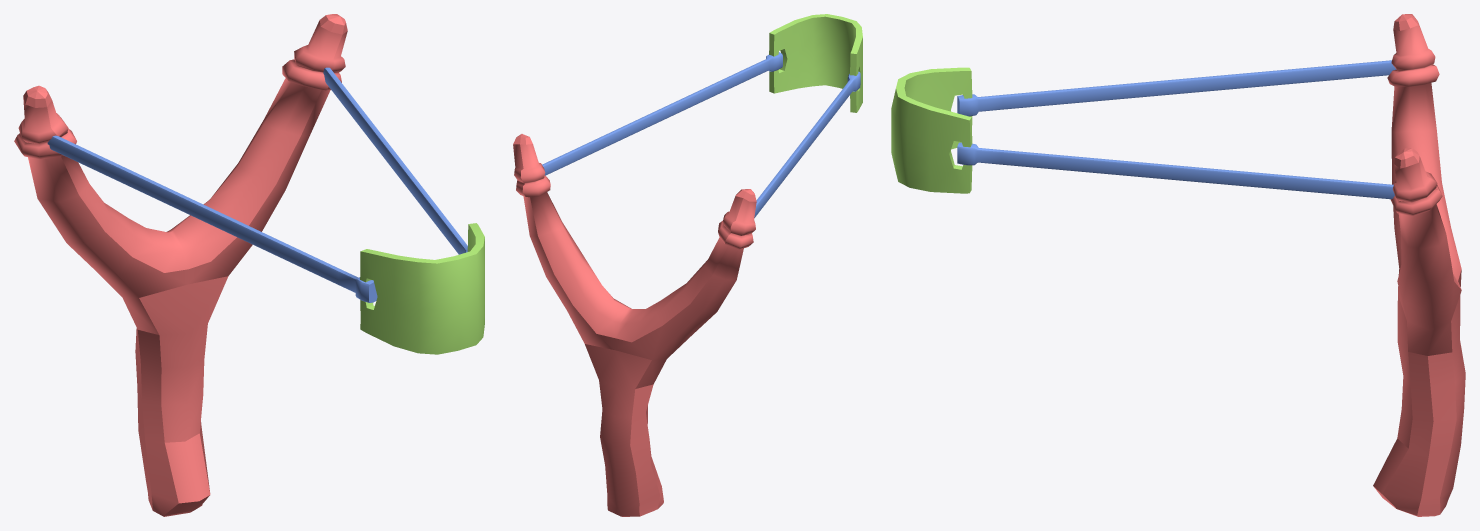
File: slingshot.fbx
The picture shows the model from 3 angles, left to right: view 1: azimuth 30°, elevation 25°; view 2: azimuth 150°, elevation 25°; view 3: azimuth 270°, elevation 25°; orthographic projection. The views are drawn at different scales.
Visible parts, largest first — view 1: Cylinder001, Plane001, Loft001; view 2: Cylinder001, Plane001, Loft001; view 3: Cylinder001, Loft001, Plane001.
Part boxes in pixels (bbox=[...]): Cylinder001: bbox=[14, 14, 347, 516]; Plane001: bbox=[360, 223, 484, 354]; Loft001: bbox=[47, 67, 467, 302]; Cylinder001: bbox=[513, 134, 756, 516]; Plane001: bbox=[769, 14, 862, 112]; Loft001: bbox=[542, 52, 860, 217]; Cylinder001: bbox=[1373, 14, 1465, 516]; Loft001: bbox=[957, 60, 1396, 199]; Plane001: bbox=[891, 67, 972, 193].
Size of the model in its own units: 222 by 302 by 368.
